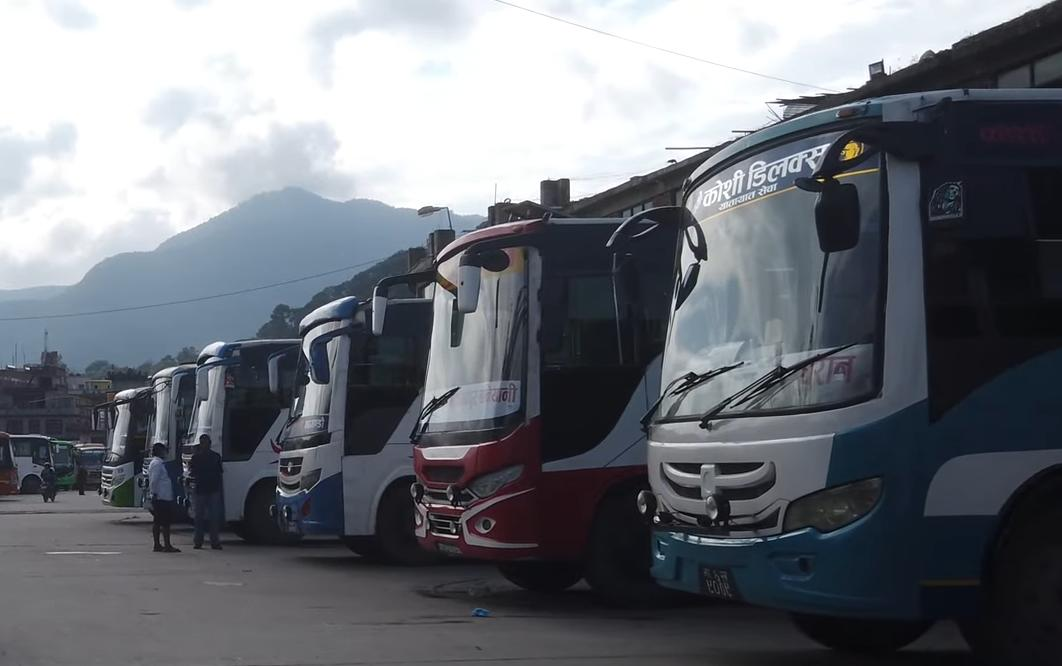bus: (627, 69, 1062, 666), (408, 196, 692, 604), (268, 279, 469, 573)
